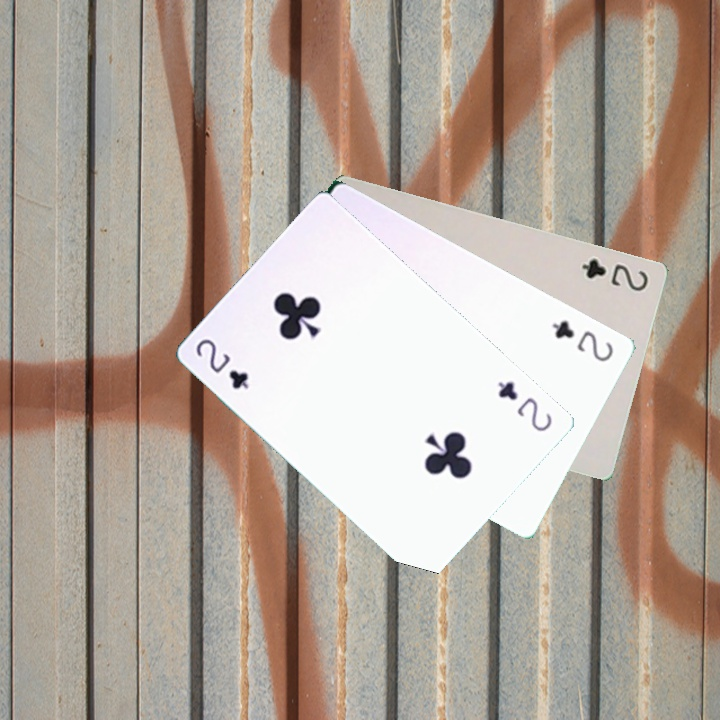2c: (493, 377, 555, 435), (191, 334, 252, 392), (547, 316, 616, 365), (577, 254, 651, 294)
